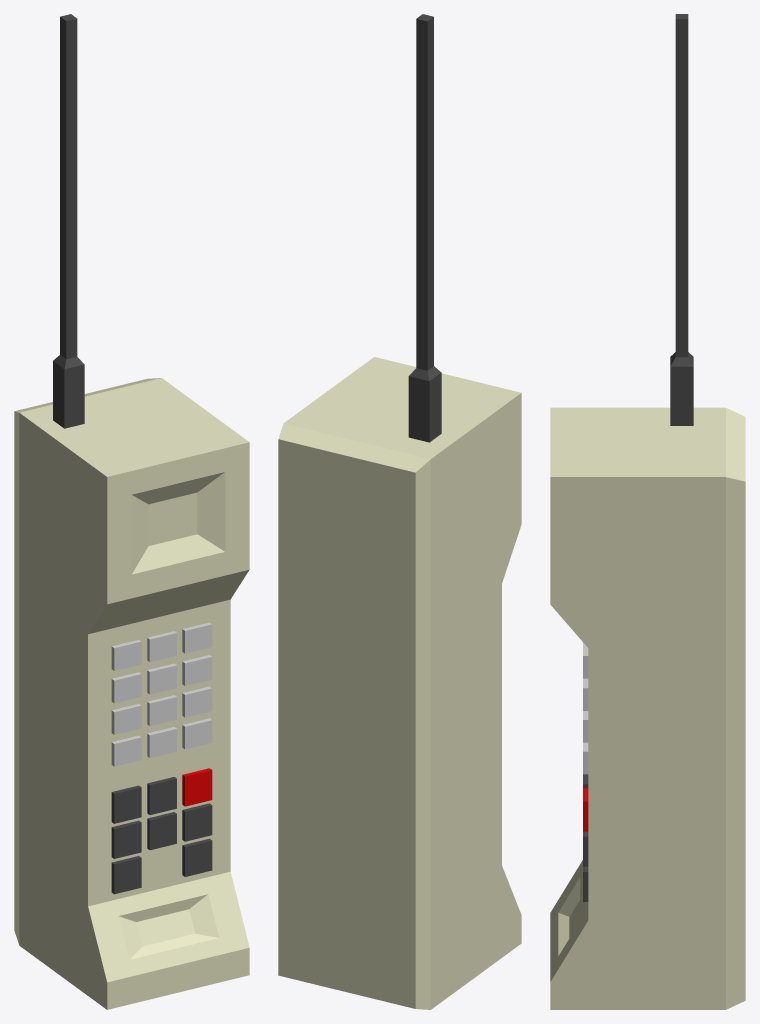
Rendered from phone.fbx.
3 renders of one model, left to right at view 1: azimuth 30°, elevation 25°; view 2: azimuth 150°, elevation 25°; view 3: azimuth 270°, elevation 25°, orthographic. The views are drawn at different scales.
Parts seen in each view (by area): view 1: ref35; view 2: ref35; view 3: ref35.
Part boxes in pixels (box(x1,y1,x2,y2)): ref35: box(14, 14, 249, 1009); ref35: box(278, 14, 521, 1009); ref35: box(550, 14, 745, 1009).
Bounding box in the file's own units: 10.6 × 66.66 × 12.6.
